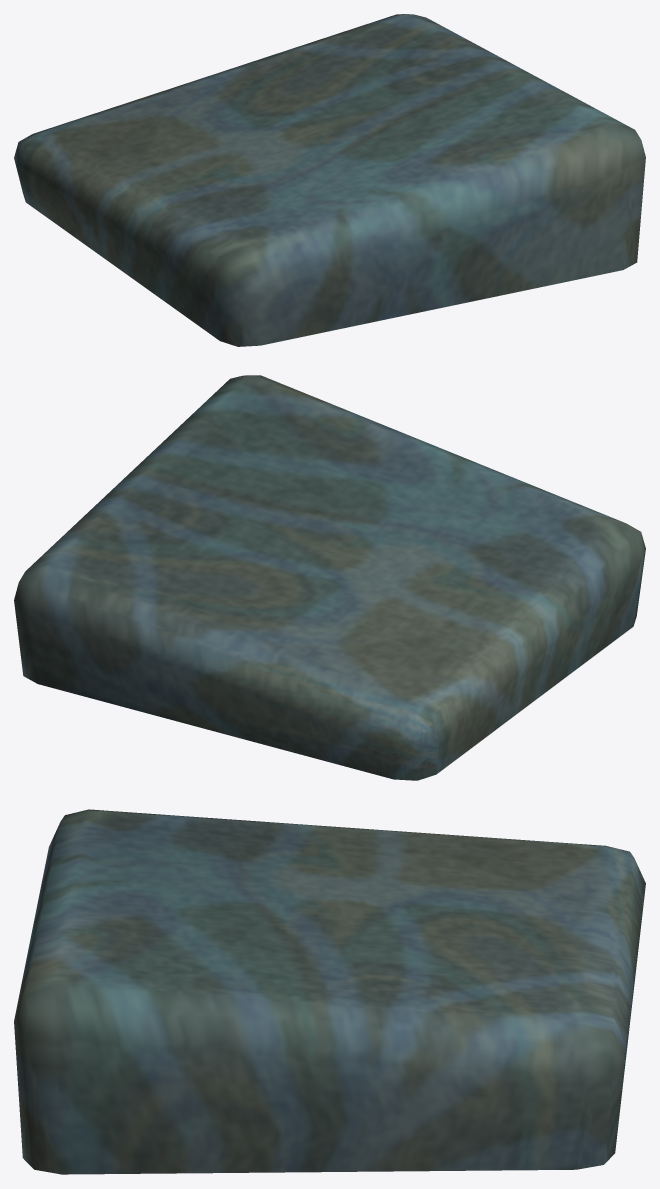
File: BlockTile_A.dae
3 renders of one model, top to bottom at view 1: azimuth 30°, elevation 25°; view 2: azimuth 150°, elevation 25°; view 3: azimuth 270°, elevation 25°, orthographic. The views are drawn at different scales.
Visible parts, largest first — view 1: BlockTile_A; view 2: BlockTile_A; view 3: BlockTile_A.
Boxes of the visible parts, box(x1,y1,x2,y2) form: BlockTile_A: box(14, 14, 645, 346); BlockTile_A: box(14, 375, 645, 780); BlockTile_A: box(14, 809, 645, 1174).
Size of what is drawn, in the model's own units: 90 by 27.66 by 90.
